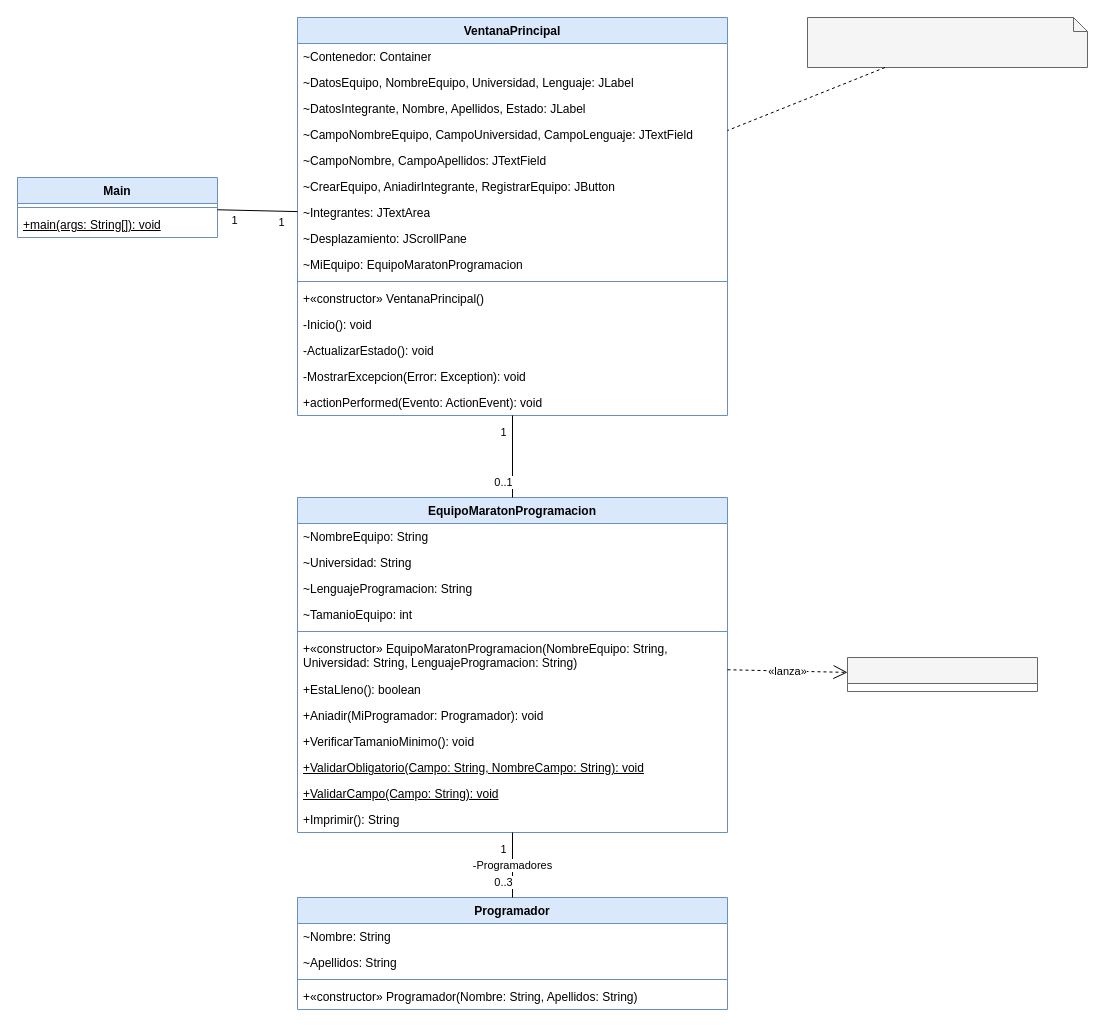
This 1105x1030 diagram has some shape labels left out. The shapes that lost their labels are listed below. From the top down, each one's centre as x and y in pixels, then its label:
At point 947,42: "VentanaPrincipal extiende JFrame e implementa ActionListener.".
At point 942,674: "Exception".
